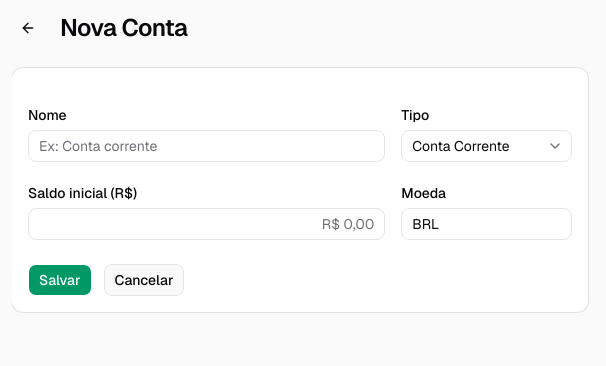
Test: NovaConta › shows api error message when criar fails
The width and height of the screenshot is (606, 366).
In the field labelled "Nome": (207, 146) [28,130,385,162], type "Falha"
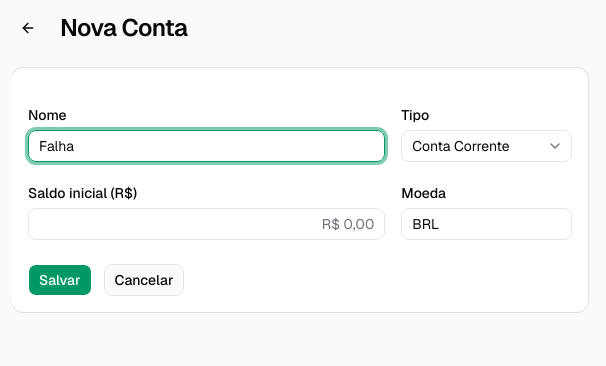
Click the button "Salvar": (60, 280) [28,264,92,296]
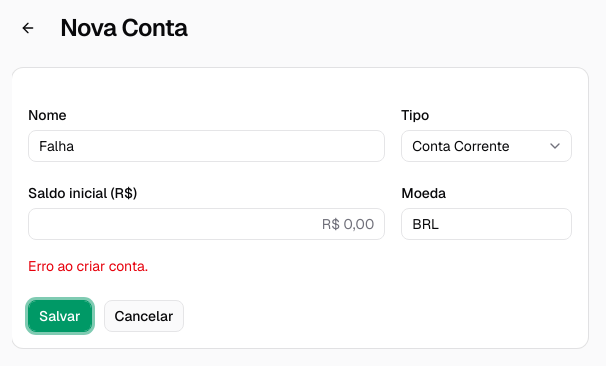
Expected: the text "Erro ao criar conta." is shown, [28,257,148,275]
